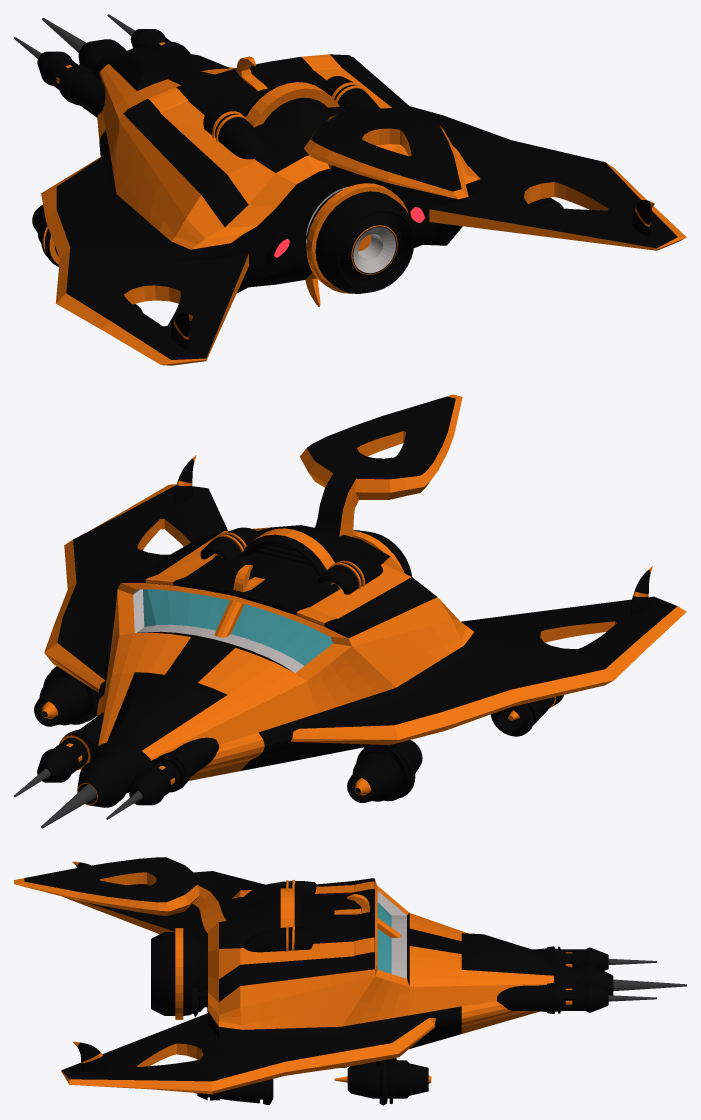
File: enemyship.glb
3 views of the same model, one above another, from view 1: azimuth 30°, elevation 25°; view 2: azimuth 150°, elevation 25°; view 3: azimuth 270°, elevation 25° (orthographic). The views are drawn at different scales.
Visible parts, largest first — view 1: Cube.003; view 2: Cube.003; view 3: Cube.003.
Part boxes in pixels (left/top/right/bottom): Cube.003: left=14, top=14, right=686, bottom=365; Cube.003: left=14, top=394, right=686, bottom=828; Cube.003: left=14, top=857, right=686, bottom=1105.
Bounding box in the file's own units: 36.34 × 13.57 × 47.47.
